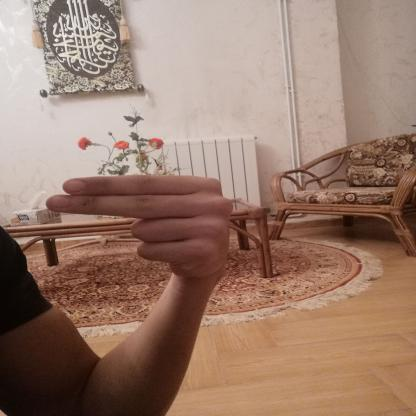AYN: (29, 163, 248, 293)
